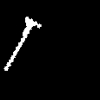half_double_crochet: (4, 17, 40, 70)
